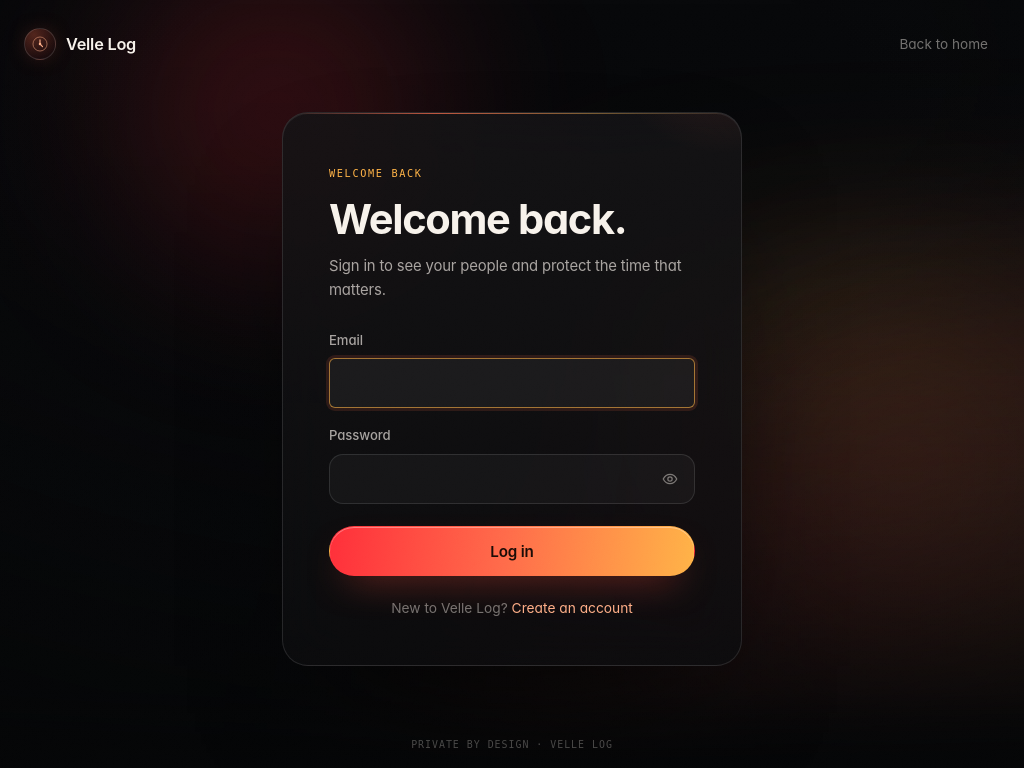
Test: authentication flow › never stores the JWT and sends CSRF proof on logout
The width and height of the screenshot is (1024, 768).
Expected: the heading "Welcome back." is shown, [329, 194, 626, 244]
Type "alex@example.com" into the field labelled "Email" at [512, 383], box [329, 358, 695, 408]
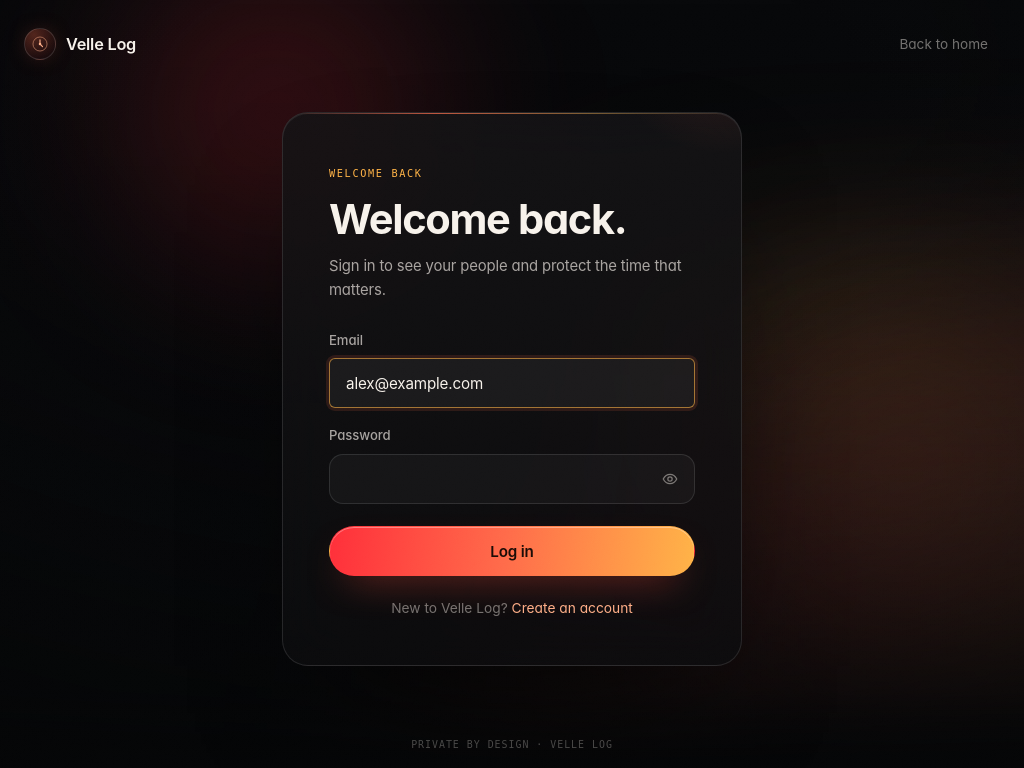
Type "s3cure-passphrase" into the password field labelled "Password" at [512, 479], box [329, 454, 695, 504]
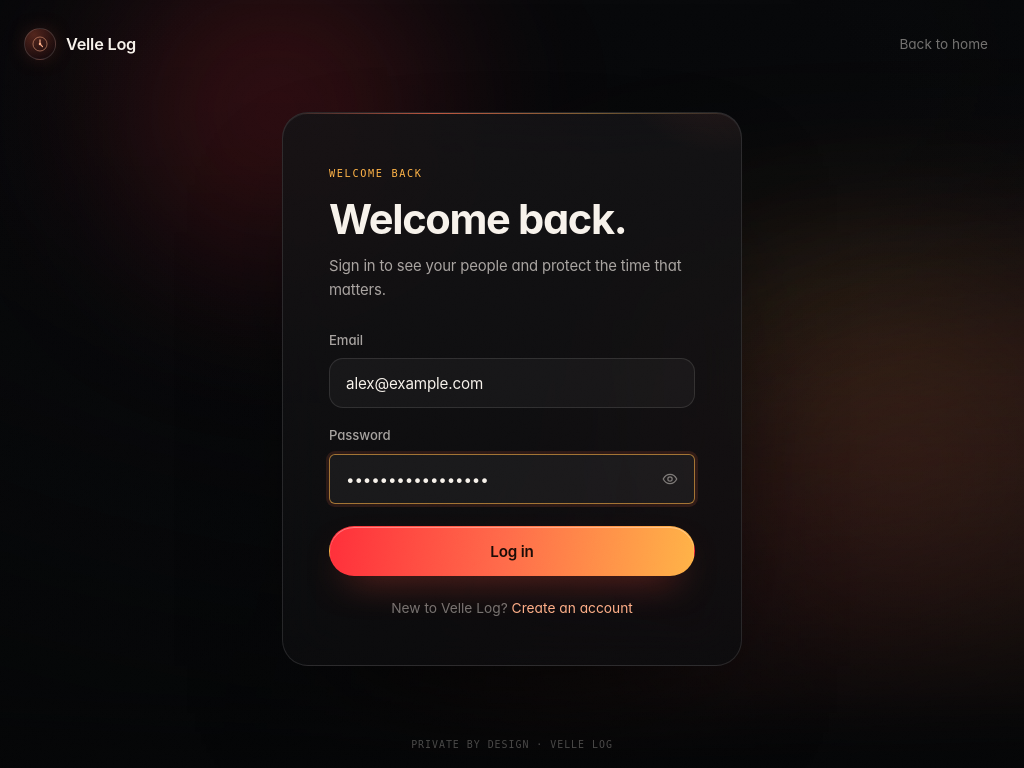
Click the button "Log in" at [512, 551], box [329, 526, 695, 576]
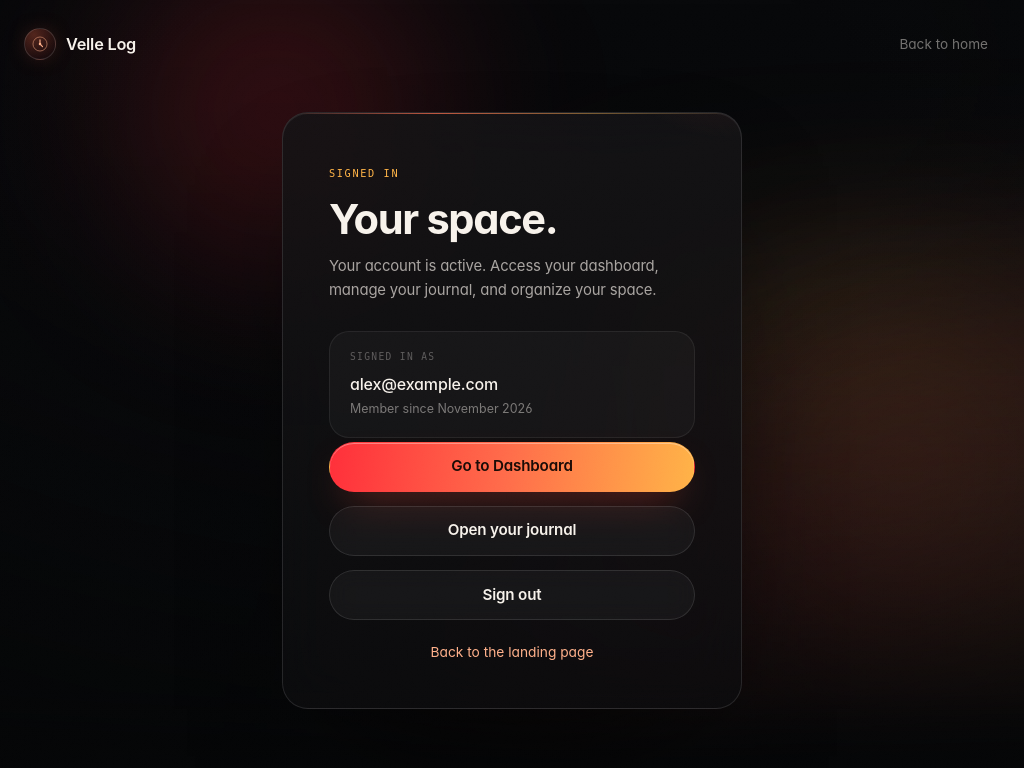
Result: the heading "Your space." is shown at [329, 194, 557, 244]
Click the button "Sign out" at [512, 595], box [329, 570, 695, 620]
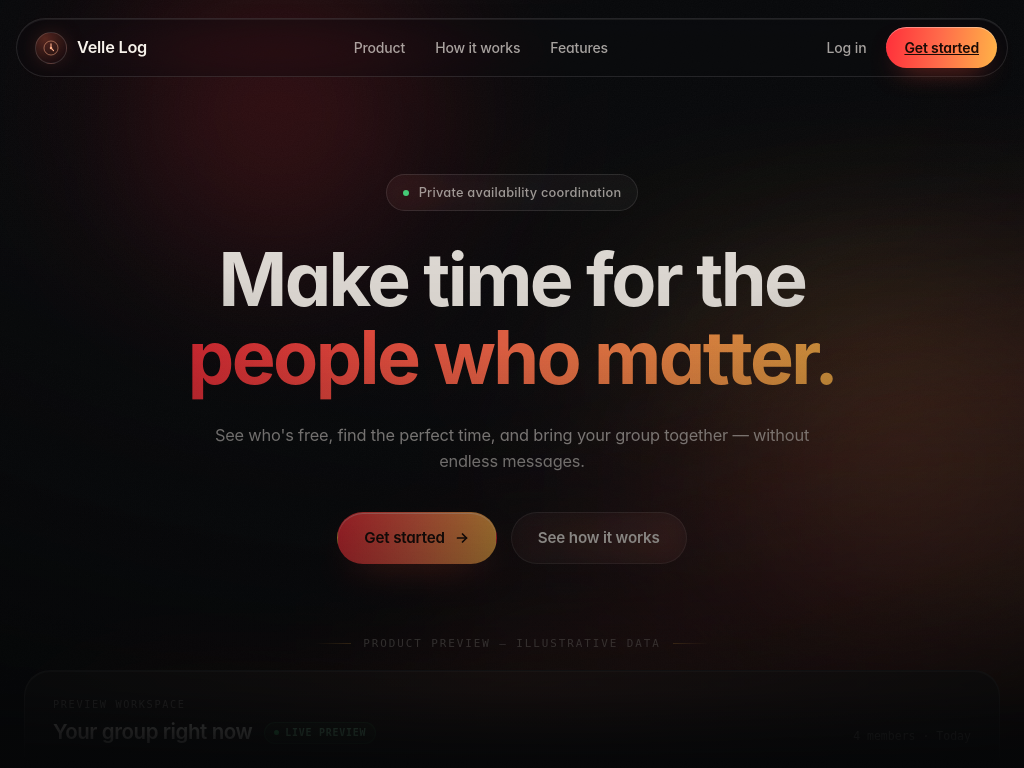
Result: the heading "people who matter" is shown at [188, 235, 836, 402]
